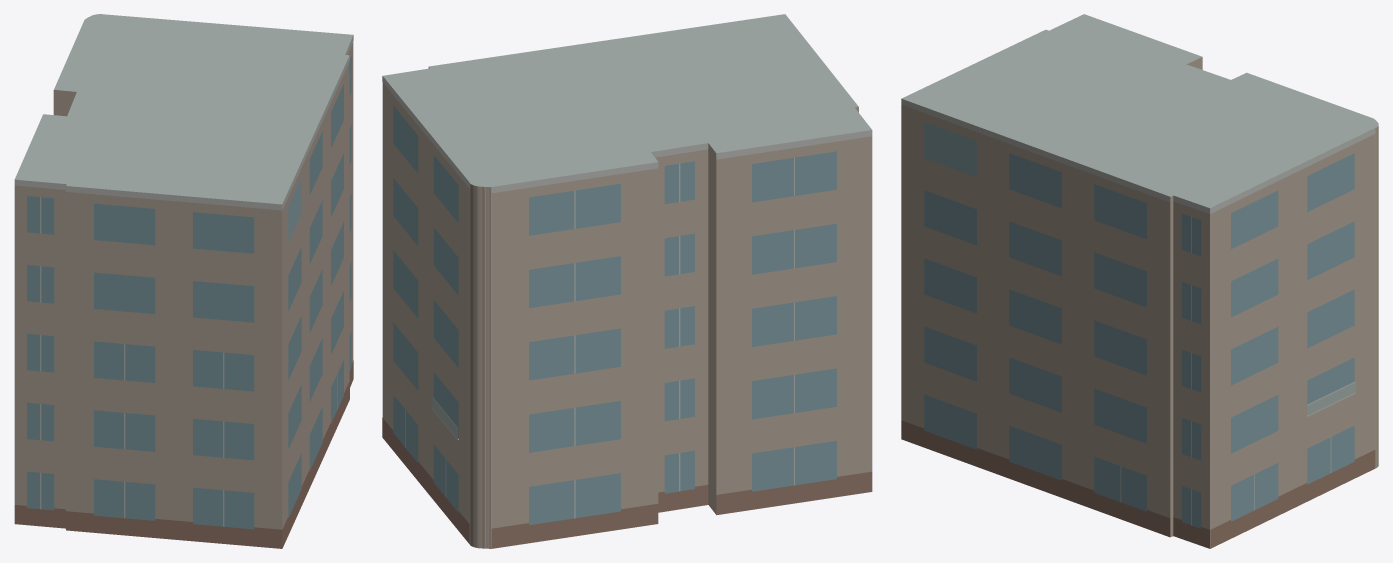
File: survey-upis-32947479.glb
3 views of the same model, side by side, from view 1: azimuth 30°, elevation 25°; view 2: azimuth 150°, elevation 25°; view 3: azimuth 270°, elevation 25° (orthographic). The views are drawn at different scales.
Parts seen in each view (by area): view 1: survey-upis-32947479.tmp; view 2: survey-upis-32947479.tmp; view 3: survey-upis-32947479.tmp.
Part boxes in pixels (x1,y1,x2,y2): survey-upis-32947479.tmp: (14, 14, 353, 548); survey-upis-32947479.tmp: (382, 14, 872, 548); survey-upis-32947479.tmp: (901, 14, 1378, 548).
Size of the model in its own units: 17.38 by 14.2 by 18.04.
